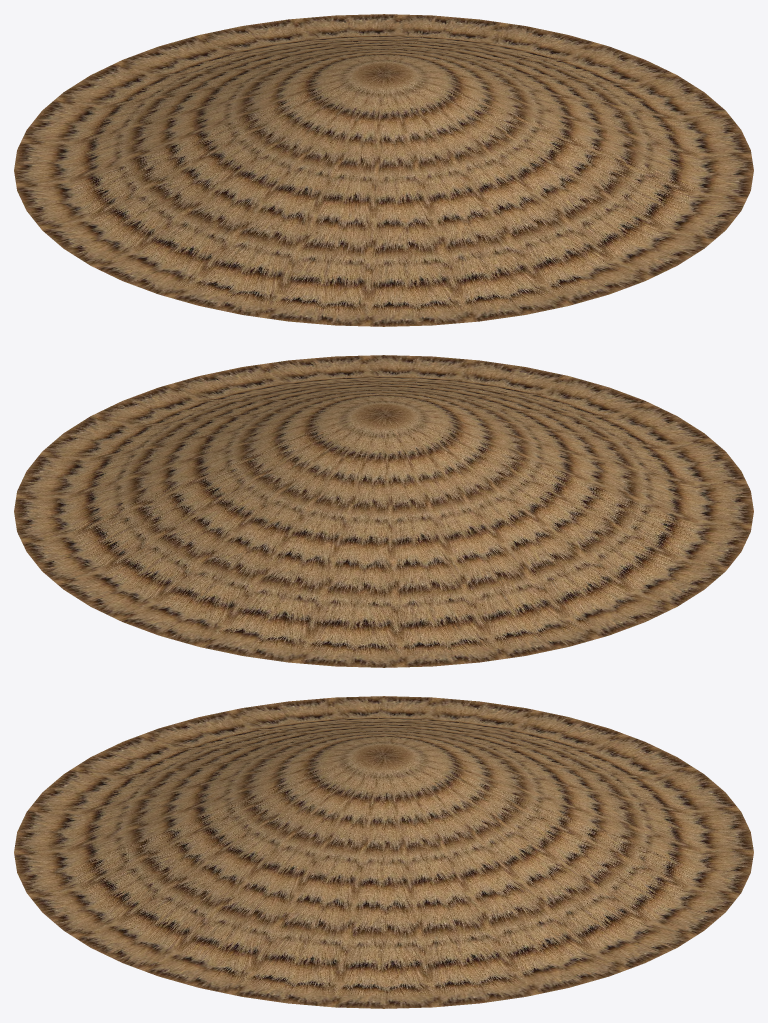
Rendered from island_bar_soffit.glb.
3 views of the same model, one above another, from view 1: azimuth 30°, elevation 25°; view 2: azimuth 150°, elevation 25°; view 3: azimuth 270°, elevation 25° (orthographic).
Visible parts, largest first — view 1: island_bar_soffit; view 2: island_bar_soffit; view 3: island_bar_soffit.
Boxes of the visible parts, x1,y1,x2,y2 form: island_bar_soffit: (14,14,753,326); island_bar_soffit: (14,355,753,667); island_bar_soffit: (14,696,753,1008).
Size of the model in its own units: 9.86 by 1.43 by 9.86.
Materials: 1 (1 with a texture image).
